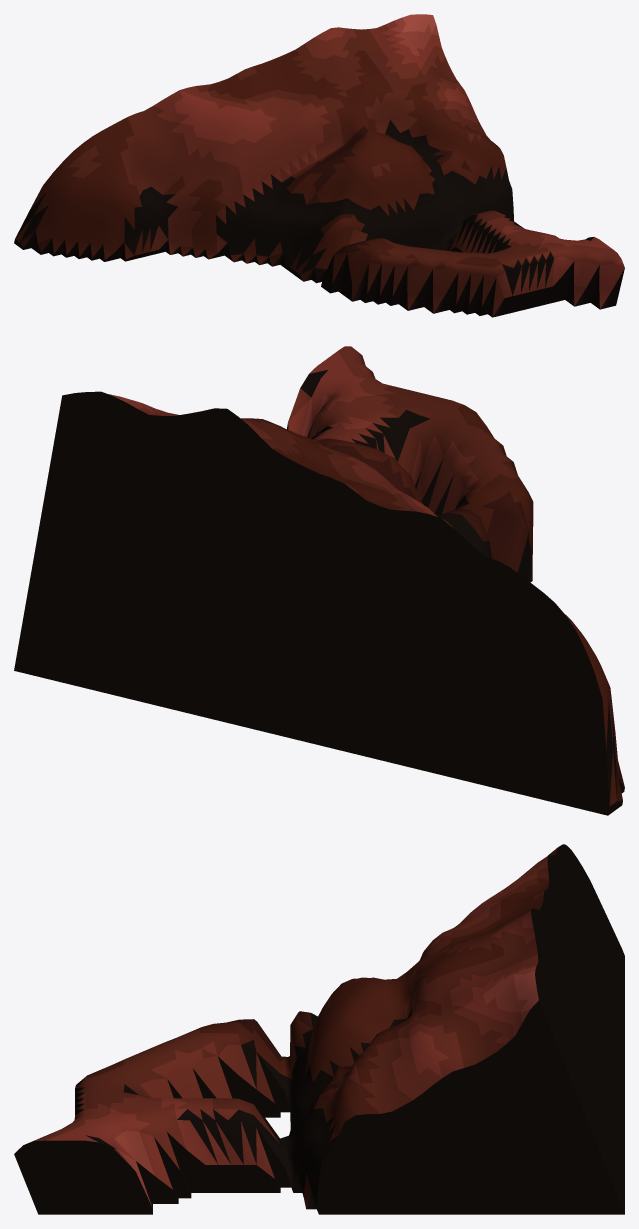
The model's file is brain_bot_l.glb.
3 views of the same model, one above another, from view 1: azimuth 30°, elevation 25°; view 2: azimuth 150°, elevation 25°; view 3: azimuth 270°, elevation 25° (orthographic). The views are drawn at different scales.
Visible parts, largest first — view 1: brain_bot_l; view 2: brain_bot_l; view 3: brain_bot_l.
Boxes of the visible parts, x1,y1,x2,y2 form: brain_bot_l: (14,14,624,317); brain_bot_l: (14,346,624,815); brain_bot_l: (14,844,624,1214).
Bounding box in the file's own units: 24 × 10.14 × 23.95.
